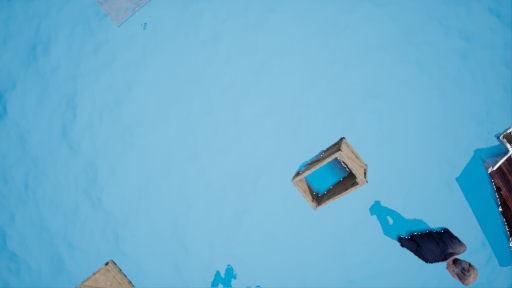person: (372, 198, 483, 286)
